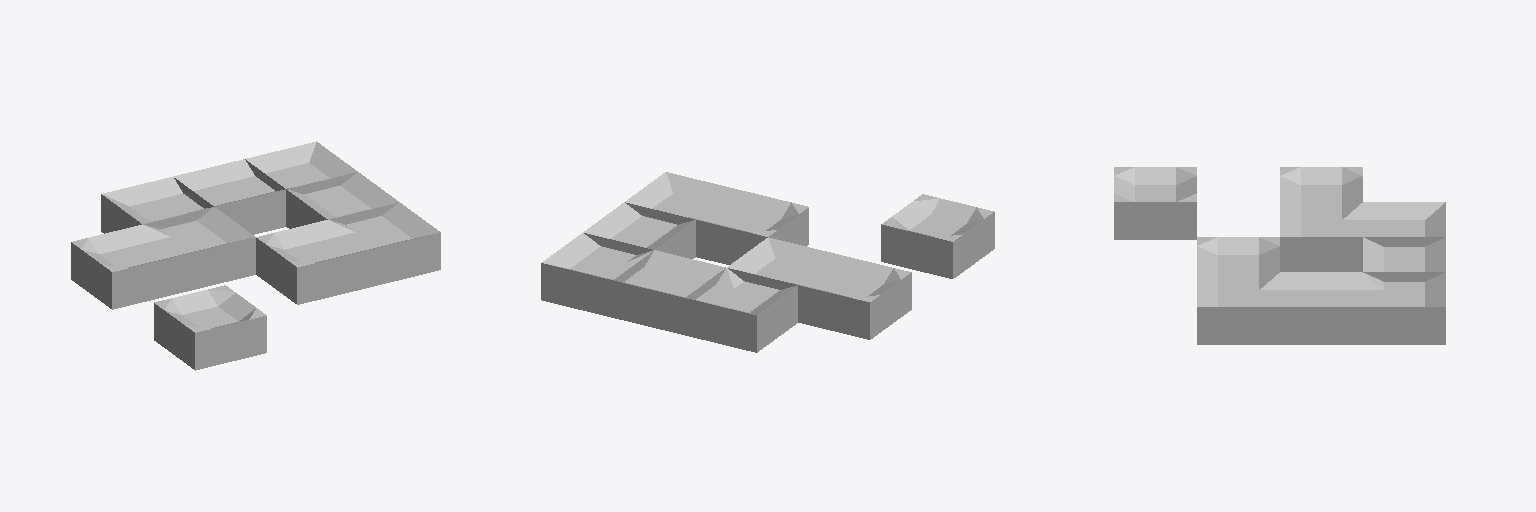
Rendered from 78f_path.obj.
3 views of the same model, side by side, from view 1: azimuth 30°, elevation 25°; view 2: azimuth 150°, elevation 25°; view 3: azimuth 270°, elevation 25° (orthographic).
Parts seen in each view (by area): view 1: foil.hole.1.1_Cube.307, foil.ending.3.2_ending.612, foil.ending.1.3_ending.611, foil.corner.2.3_corner.1522, foil.corner.4.2_corner.1524, foil.through.3.4_through.310, foil.through.4.3_through.311, foil.corner.2.4_corner.1523, foil.corner.4.4_corner.1525; view 2: foil.hole.1.1_Cube.307, foil.ending.1.3_ending.611, foil.corner.2.4_corner.1523, foil.through.3.4_through.310, foil.ending.3.2_ending.612, foil.corner.4.4_corner.1525, foil.through.4.3_through.311, foil.corner.2.3_corner.1522, foil.corner.4.2_corner.1524; view 3: foil.hole.1.1_Cube.307, foil.through.4.3_through.311, foil.corner.4.4_corner.1525, foil.corner.4.2_corner.1524, foil.corner.2.3_corner.1522, foil.ending.3.2_ending.612, foil.ending.1.3_ending.611, foil.through.3.4_through.310, foil.corner.2.4_corner.1523.
Part boxes in pixels (x1,y1,x2,y2): foil.hole.1.1_Cube.307: (154, 285, 266, 370); foil.ending.3.2_ending.612: (256, 220, 368, 304); foil.ending.1.3_ending.611: (71, 224, 183, 309); foil.corner.2.3_corner.1522: (143, 207, 255, 291); foil.corner.4.2_corner.1524: (328, 202, 440, 287); foil.through.3.4_through.310: (173, 159, 285, 234); foil.through.4.3_through.311: (286, 172, 398, 228); foil.corner.2.4_corner.1523: (101, 177, 213, 233); foil.corner.4.4_corner.1525: (246, 141, 357, 190); foil.hole.1.1_Cube.307: (881, 194, 994, 278); foil.ending.1.3_ending.611: (798, 255, 911, 339); foil.corner.2.4_corner.1523: (685, 268, 797, 352); foil.through.3.4_through.310: (613, 250, 725, 334); foil.ending.3.2_ending.612: (696, 190, 808, 264); foil.corner.4.4_corner.1525: (541, 233, 653, 317); foil.through.4.3_through.311: (583, 202, 695, 258); foil.corner.2.3_corner.1522: (727, 237, 838, 289); foil.corner.4.2_corner.1524: (625, 172, 737, 220); foil.hole.1.1_Cube.307: (1114, 167, 1196, 239); foil.through.4.3_through.311: (1280, 272, 1362, 344); foil.corner.4.4_corner.1525: (1363, 272, 1445, 344); foil.corner.4.2_corner.1524: (1197, 272, 1279, 344); foil.corner.2.3_corner.1522: (1280, 202, 1362, 271); foil.ending.3.2_ending.612: (1197, 237, 1279, 281); foil.ending.1.3_ending.611: (1280, 167, 1362, 211); foil.through.3.4_through.310: (1363, 237, 1445, 281); foil.corner.2.4_corner.1523: (1363, 202, 1445, 236).
Size of the model in its own units: 8 by 1 by 8.